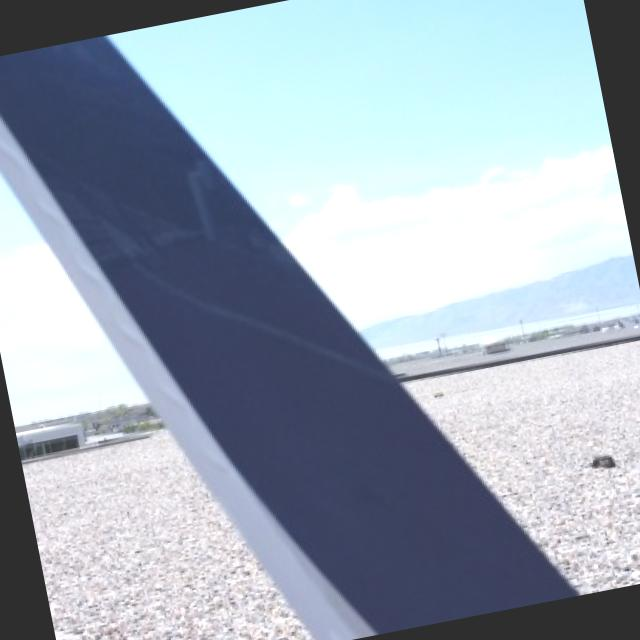healthy: (0, 36, 575, 640)
